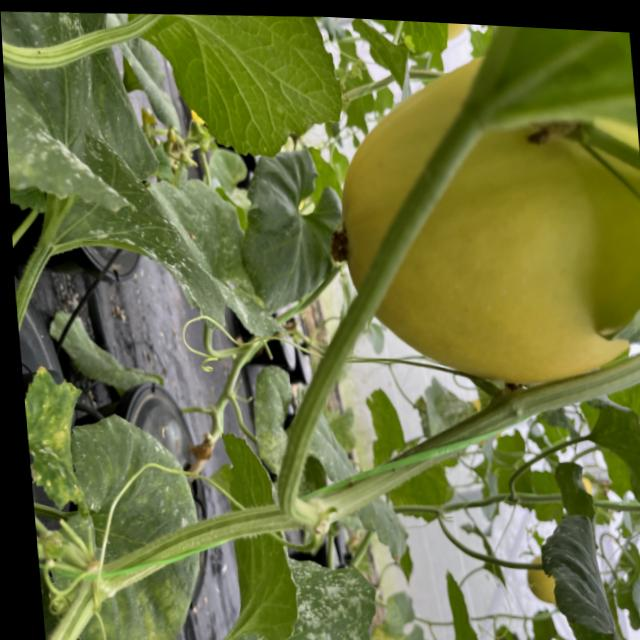CMV: (20, 366, 94, 516)
downy mildew: (30, 405, 205, 640)
healthy: (123, 6, 349, 171), (208, 425, 303, 640), (537, 509, 640, 640)
powdery mildew: (0, 4, 235, 347), (294, 554, 384, 640)
